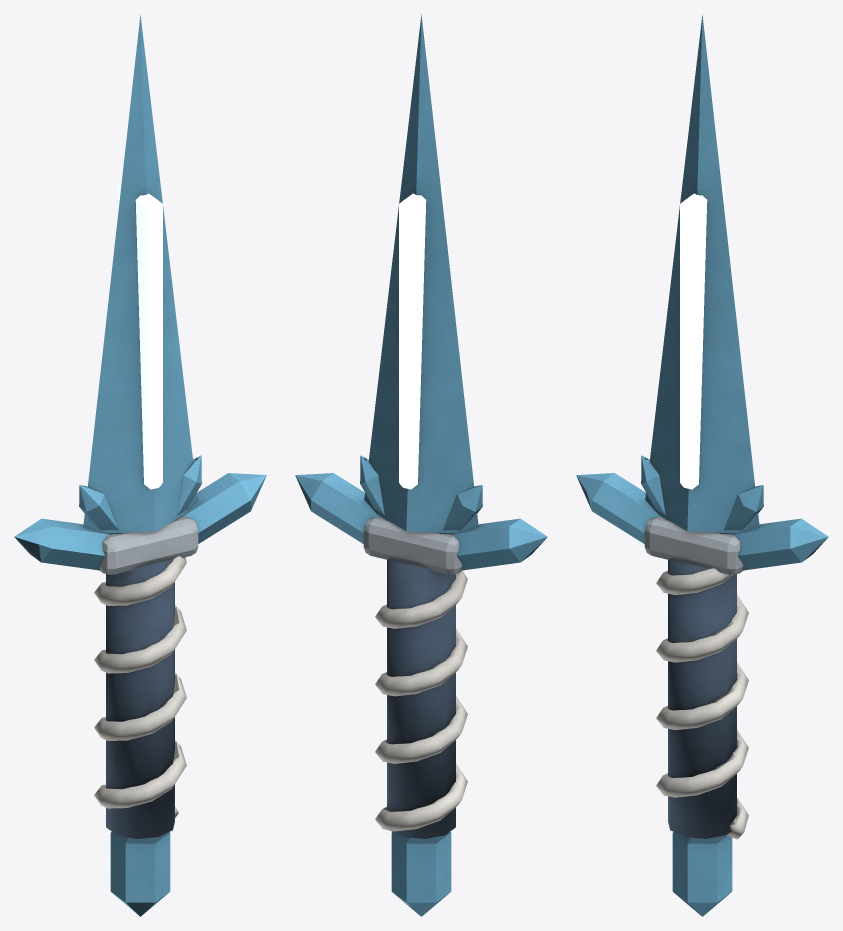
Rendered from 04_tundra_dagger.fbx.
3 views of the same model, side by side, from view 1: azimuth 30°, elevation 25°; view 2: azimuth 150°, elevation 25°; view 3: azimuth 330°, elevation 25° (orthographic).
Visible parts, largest first — view 1: Weapon; view 2: Weapon; view 3: Weapon.
Part boxes in pixels (left/top/right/bottom): Weapon: left=14, top=14, right=266, bottom=916; Weapon: left=295, top=14, right=547, bottom=916; Weapon: left=576, top=14, right=828, bottom=916.
Size of the model in its own units: 16.41 by 56 by 4.99.
Materials: 2 (1 with a texture image).
